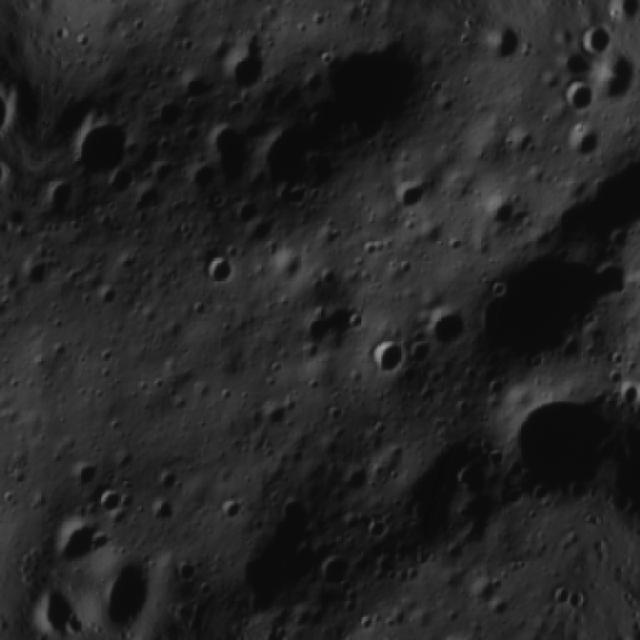crater: (485, 375, 623, 508), (67, 115, 135, 179), (418, 289, 476, 357), (221, 45, 276, 93), (359, 340, 413, 382), (310, 554, 356, 595), (216, 484, 253, 533), (199, 248, 236, 292), (88, 482, 126, 518), (396, 176, 430, 210), (566, 126, 600, 160), (563, 80, 595, 112), (435, 627, 502, 640)
